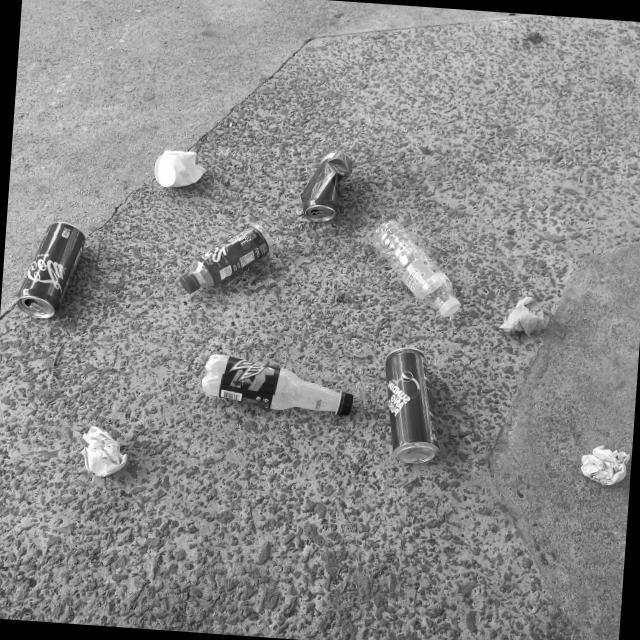recyclable waste: (359, 212, 472, 322), (192, 347, 360, 419), (373, 339, 452, 470), (171, 213, 281, 305), (11, 213, 91, 326), (293, 144, 358, 228), (72, 416, 136, 486), (147, 143, 210, 195), (574, 438, 632, 492), (493, 289, 552, 341)
